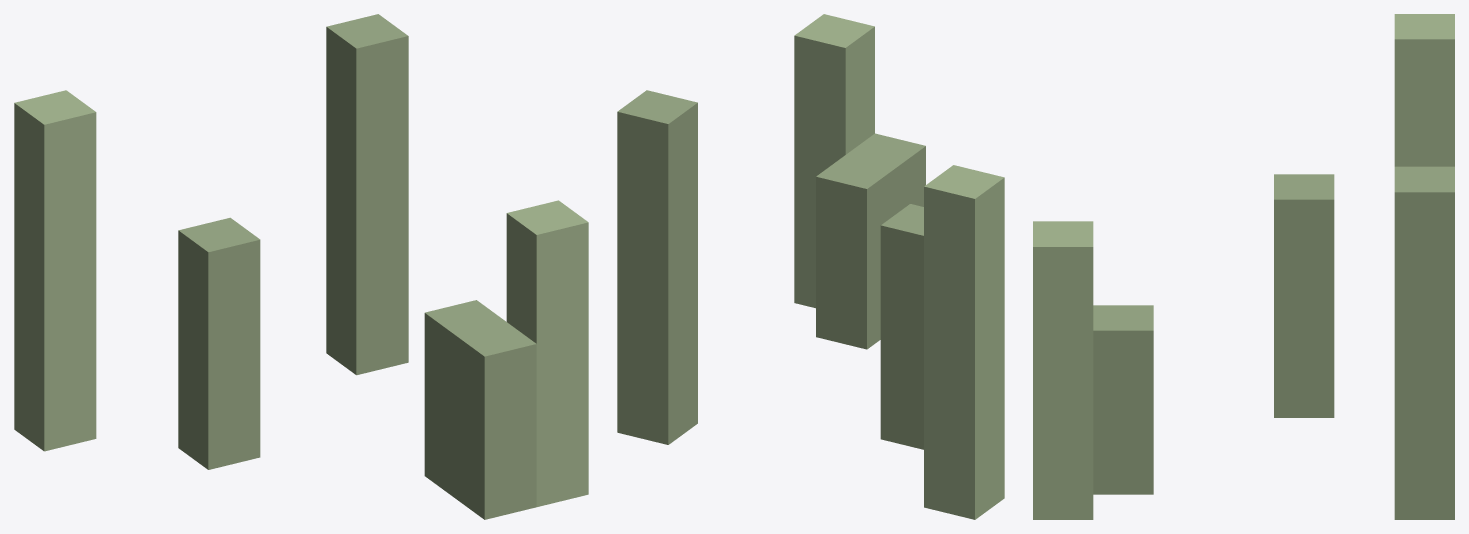
The model's file is hinojo_marino_03.glb.
The picture shows the model from 3 angles, left to right: view 1: azimuth 30°, elevation 25°; view 2: azimuth 150°, elevation 25°; view 3: azimuth 270°, elevation 25°; orthographic projection. The views are drawn at different scales.
Visible parts, largest first — view 1: hinojo_marino_03; view 2: hinojo_marino_03; view 3: hinojo_marino_03.
Part boxes in pixels (<box>): hinojo_marino_03: <box>14,14,588,519</box>; hinojo_marino_03: <box>617,14,1004,519</box>; hinojo_marino_03: <box>1033,14,1454,519</box>.
Size of the model in its own units: 0.7 by 0.6 by 0.7.
